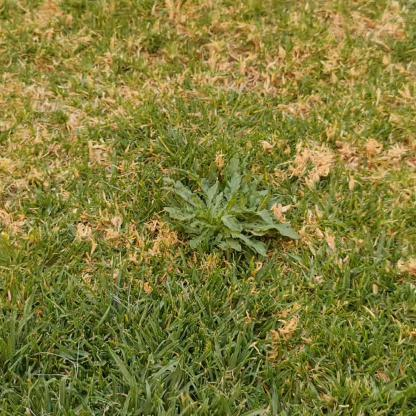Weeds: (159, 154, 301, 260)
